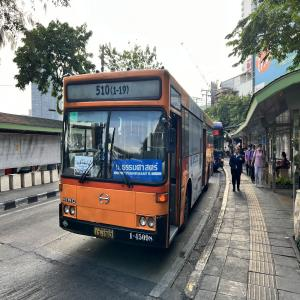BMTA-bus: (58, 69, 214, 250)
Bus Line Number: (95, 83, 130, 97)
Bus Side Number: (127, 231, 155, 244)
Destination Sign: (112, 159, 163, 182)
TSB-Bus: (214, 121, 225, 172)
